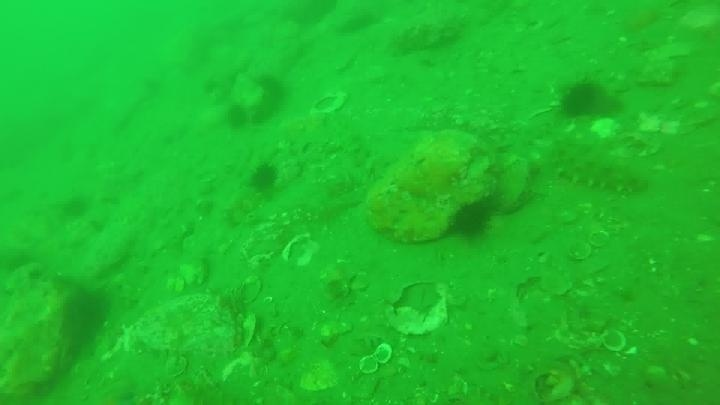echinus: (58, 287, 111, 345), (557, 79, 605, 121), (250, 73, 290, 123), (450, 199, 494, 240), (248, 161, 281, 194), (59, 194, 91, 221), (223, 103, 251, 131)
holothurian: (547, 143, 649, 197)
